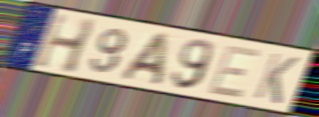9: (169, 38, 215, 91), (88, 27, 130, 74)
A: (117, 30, 169, 88)
E: (205, 43, 264, 101)
H: (32, 10, 100, 76)
K: (251, 50, 302, 107)
